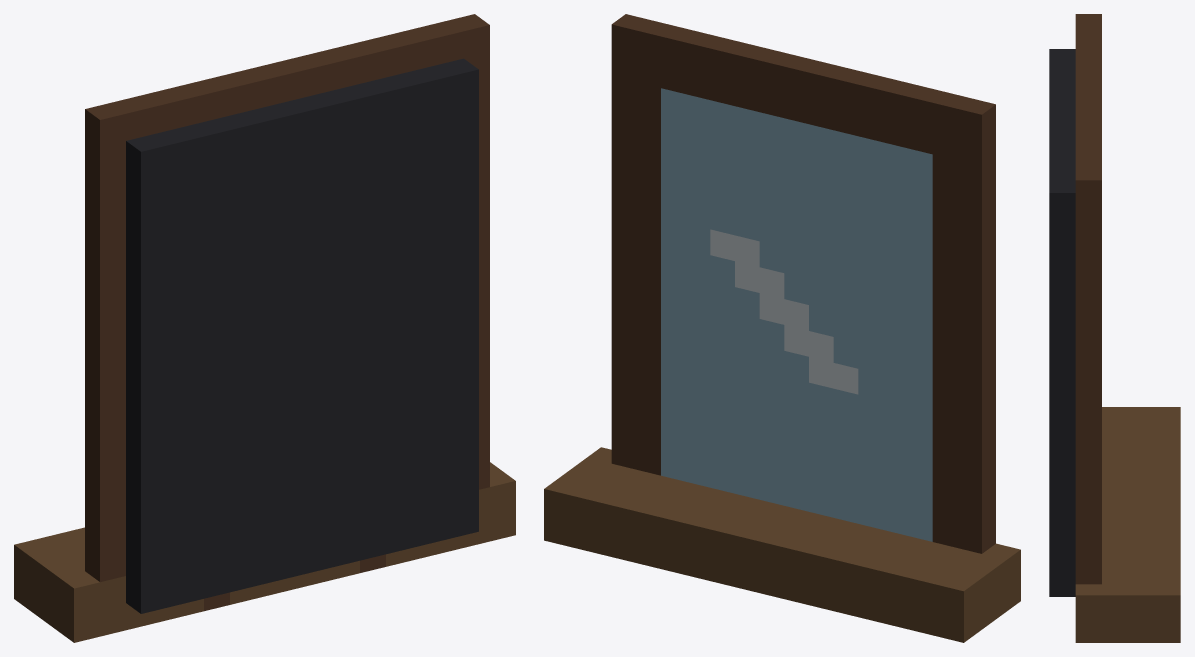
The model's file is mirror.gltf.
The picture shows the model from 3 angles, left to right: view 1: azimuth 30°, elevation 25°; view 2: azimuth 150°, elevation 25°; view 3: azimuth 270°, elevation 25°; orthographic projection. The views are drawn at different scales.
Parts seen in each view (by area): view 1: Layer.1; view 2: Layer.1; view 3: Layer.1.
Part boxes in pixels (left/top/right/bottom): Layer.1: left=14, top=14, right=515, bottom=642; Layer.1: left=544, top=14, right=1020, bottom=642; Layer.1: left=1049, top=14, right=1180, bottom=642.
Bounding box in the file's own units: 17 × 19 × 5.
